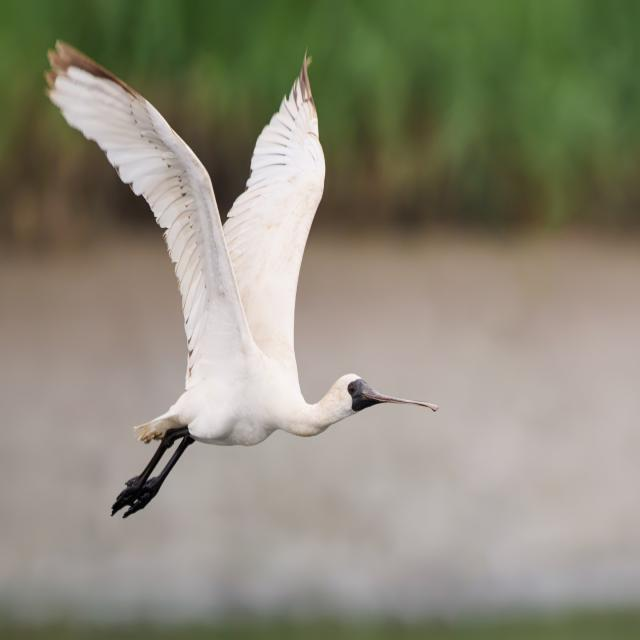Black-faced spoonbill: (46, 42, 437, 516)
